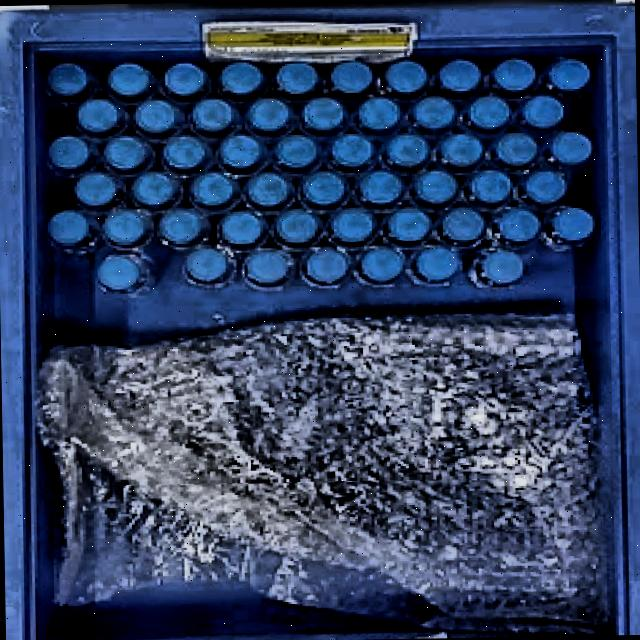vial: (157, 208, 208, 248), (102, 208, 151, 248), (243, 248, 293, 287), (185, 247, 234, 285), (217, 210, 266, 248), (190, 172, 237, 211), (329, 208, 376, 245), (305, 247, 349, 285), (359, 246, 404, 283), (274, 209, 320, 245), (383, 60, 429, 96), (132, 172, 179, 207), (162, 135, 207, 171), (247, 172, 292, 208), (133, 99, 179, 134), (549, 207, 595, 242), (97, 255, 141, 291), (219, 134, 263, 170), (492, 58, 536, 94), (302, 171, 346, 207), (441, 207, 485, 243), (479, 249, 523, 285), (415, 247, 459, 283), (103, 136, 148, 171), (107, 62, 152, 97), (47, 209, 90, 245), (219, 61, 263, 96), (247, 97, 291, 132), (274, 62, 318, 97), (330, 61, 374, 96), (438, 59, 482, 94), (357, 96, 401, 131), (412, 96, 456, 131), (274, 134, 318, 169), (358, 170, 402, 205), (387, 207, 431, 242), (496, 208, 540, 243), (523, 171, 568, 205), (302, 96, 344, 132), (164, 62, 207, 97), (470, 169, 513, 204), (77, 99, 121, 133), (467, 96, 511, 130), (521, 95, 565, 129), (440, 134, 484, 168), (413, 170, 457, 204), (75, 173, 117, 208), (192, 98, 234, 133), (550, 131, 592, 166), (547, 58, 591, 91), (48, 62, 89, 97), (49, 136, 90, 171), (331, 133, 373, 167), (386, 134, 428, 168), (495, 133, 537, 167)
